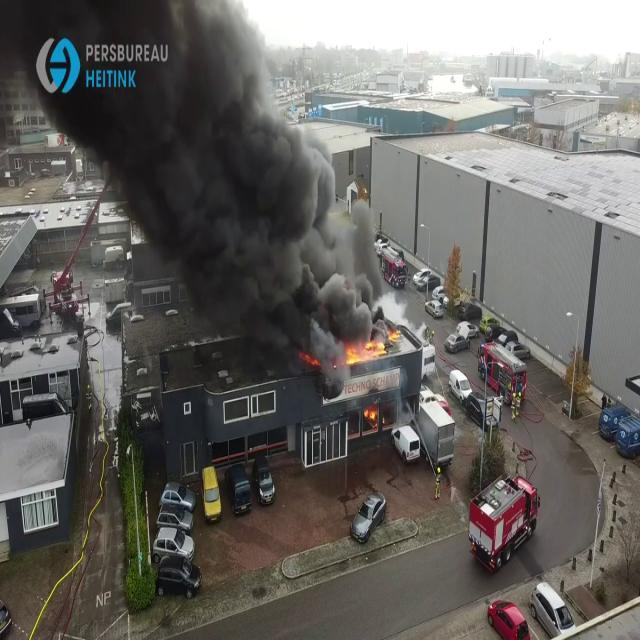Fire: (342, 332, 398, 366), (362, 400, 380, 430)
Smoke: (82, 1, 396, 372)
